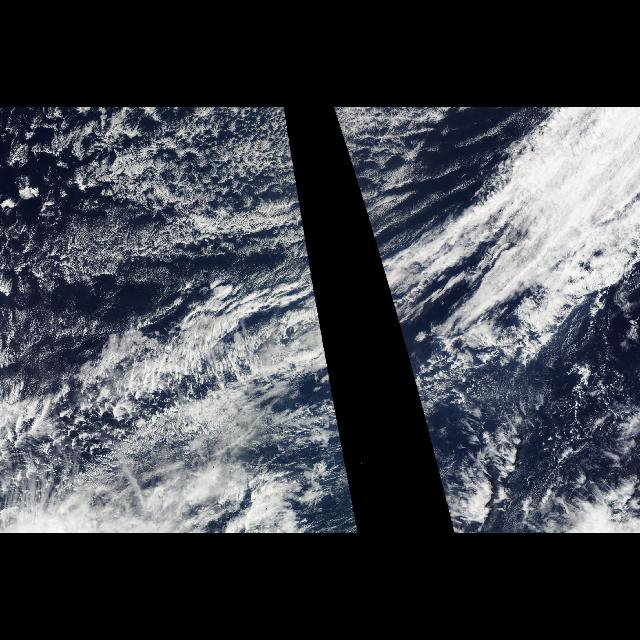Fish: (479, 110, 639, 350)
Sugar: (4, 108, 314, 274)
